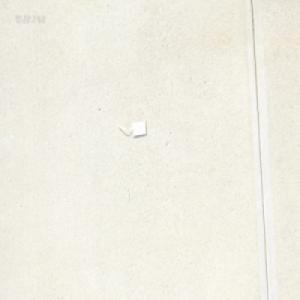LuggageTag: (116, 119, 147, 137)
